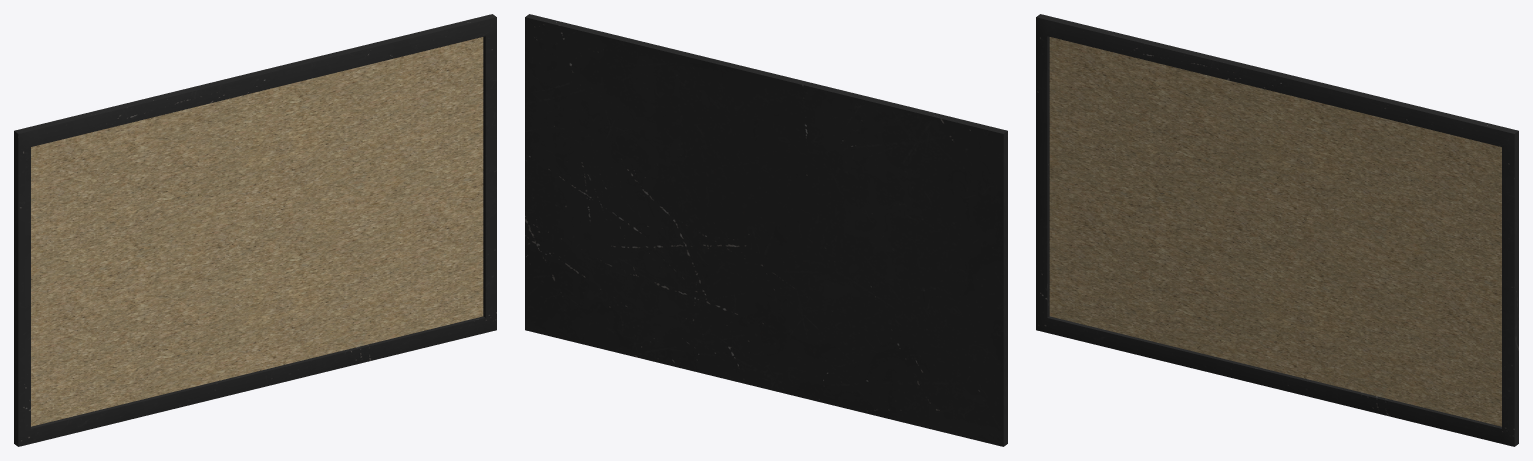
Rendered from Pin_Board.fbx.
3 renders of one model, left to right at view 1: azimuth 30°, elevation 25°; view 2: azimuth 150°, elevation 25°; view 3: azimuth 330°, elevation 25°, orthographic.
Visible parts, largest first — view 1: pCube1; view 2: pCube1; view 3: pCube1.
Boxes of the visible parts, box(x1,y1,x2,y2) form: pCube1: box(14, 14, 496, 446); pCube1: box(525, 14, 1007, 446); pCube1: box(1036, 14, 1518, 446).
Bounding box in the file's own units: 1.6 × 1 × 0.0291.
